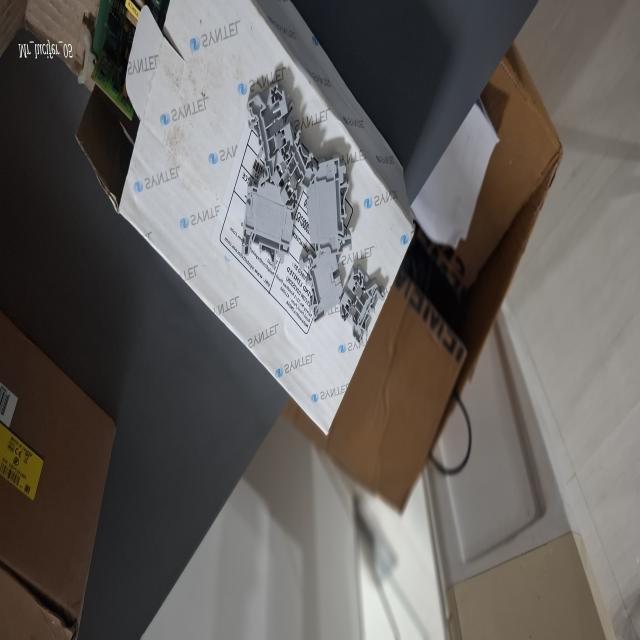Inverted: (297, 245, 343, 326)
Pass: (338, 262, 389, 342)
Reject: (245, 72, 294, 195)
